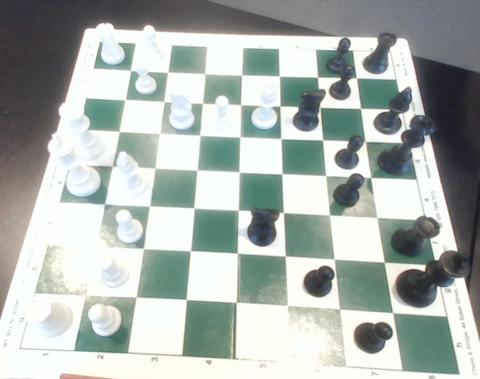xcorner: (312, 68, 327, 83), (198, 64, 213, 79), (160, 63, 175, 78), (275, 97, 290, 112), (117, 91, 132, 106), (234, 128, 249, 143), (366, 170, 381, 185), (277, 166, 292, 181), (233, 164, 248, 179), (232, 204, 247, 219), (186, 202, 201, 217), (379, 256, 394, 271), (280, 251, 295, 266), (334, 304, 349, 319), (77, 290, 92, 305), (351, 70, 366, 84), (274, 67, 289, 81), (123, 62, 138, 76), (315, 99, 330, 113), (235, 96, 250, 110), (196, 94, 210, 109), (156, 93, 171, 107), (361, 133, 375, 148), (318, 132, 333, 146), (276, 130, 291, 144), (152, 125, 166, 140), (322, 168, 336, 183), (372, 211, 387, 225), (325, 209, 340, 223), (279, 206, 293, 221), (141, 200, 155, 215), (96, 198, 110, 213), (329, 254, 344, 268), (231, 249, 246, 263), (183, 246, 197, 261), (87, 242, 102, 256), (282, 301, 296, 316), (230, 298, 244, 313), (236, 66, 250, 80), (356, 100, 370, 114), (193, 127, 207, 141), (111, 124, 125, 138), (190, 163, 204, 177), (147, 161, 161, 175), (104, 159, 118, 173), (135, 244, 149, 258), (387, 307, 401, 321), (179, 296, 193, 310), (128, 293, 142, 307)
